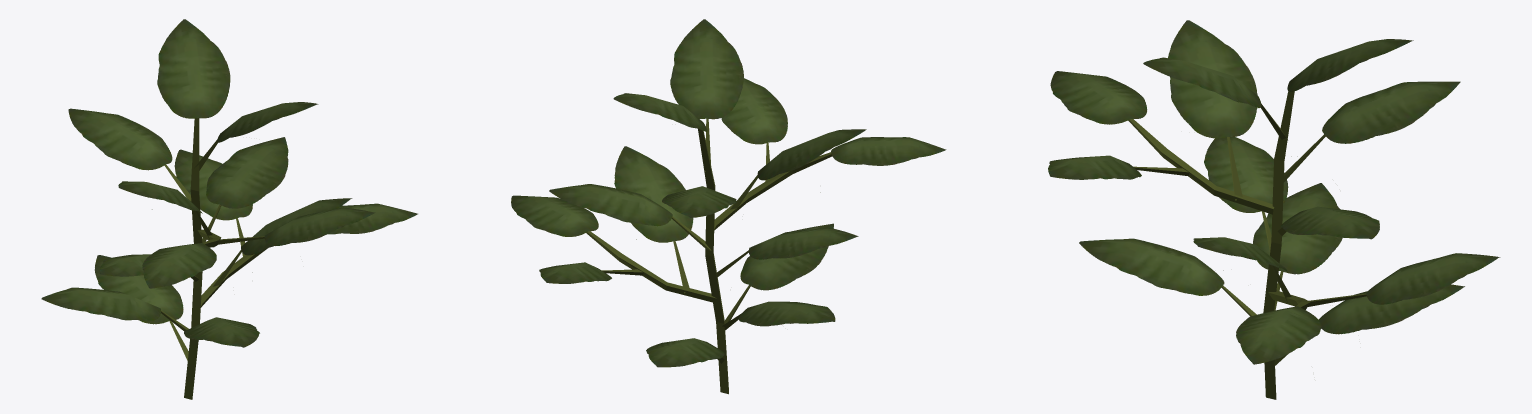
The picture shows the model from 3 angles, left to right: view 1: azimuth 30°, elevation 25°; view 2: azimuth 150°, elevation 25°; view 3: azimuth 270°, elevation 25°; orthographic projection. The views are drawn at different scales.
Visible parts, largest first — view 1: body0_model0_lod0_mesh0; view 2: body0_model0_lod0_mesh0; view 3: body0_model0_lod0_mesh0.
Boxes of the visible parts, x1,y1,x2,y2 form: body0_model0_lod0_mesh0: [41, 19, 417, 399]; body0_model0_lod0_mesh0: [511, 19, 946, 394]; body0_model0_lod0_mesh0: [1048, 20, 1500, 399].
Size of the model in its own units: 90.26 by 68.97 by 85.33.
1 material, 1 textured.
